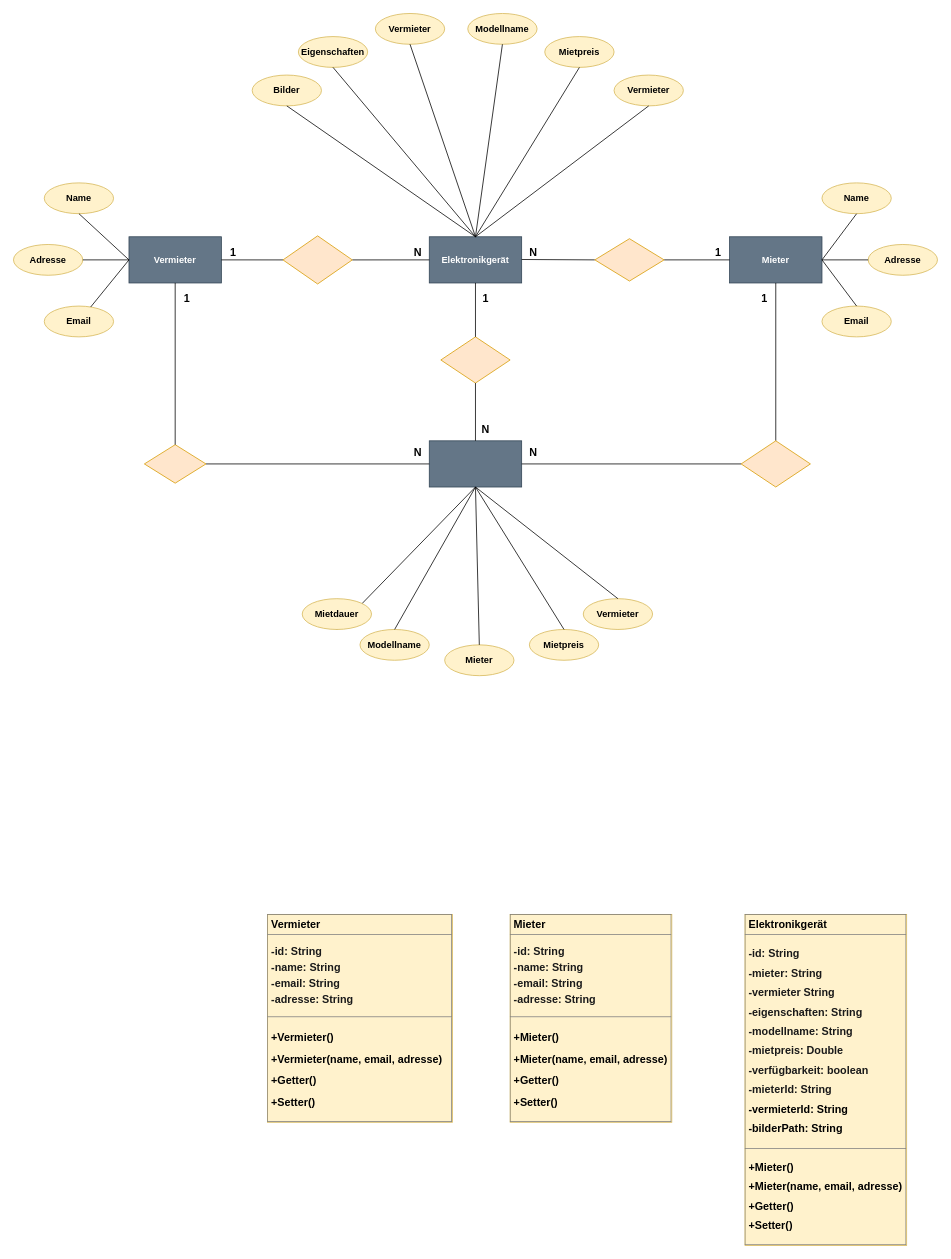
The diagram is 951 pixels wide and 1259 high, and some of its shapes have lost their labels. Each missing label, with the centre of its shape:
Buchung: (475,463)
koordiniert: (175,463)
leiht: (629,259)
leiht aus: (317,259)
macht: (775,463)
wird verwendet: (475,359)
